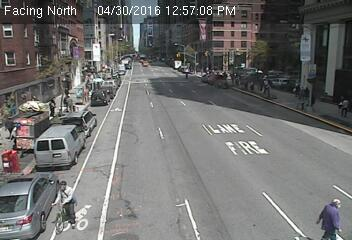neg: (41, 174, 84, 232), (142, 122, 159, 145), (298, 35, 312, 54), (293, 100, 305, 117), (136, 59, 146, 72), (210, 73, 219, 85)
pos: (312, 197, 343, 238), (43, 96, 59, 117), (337, 96, 350, 114)
